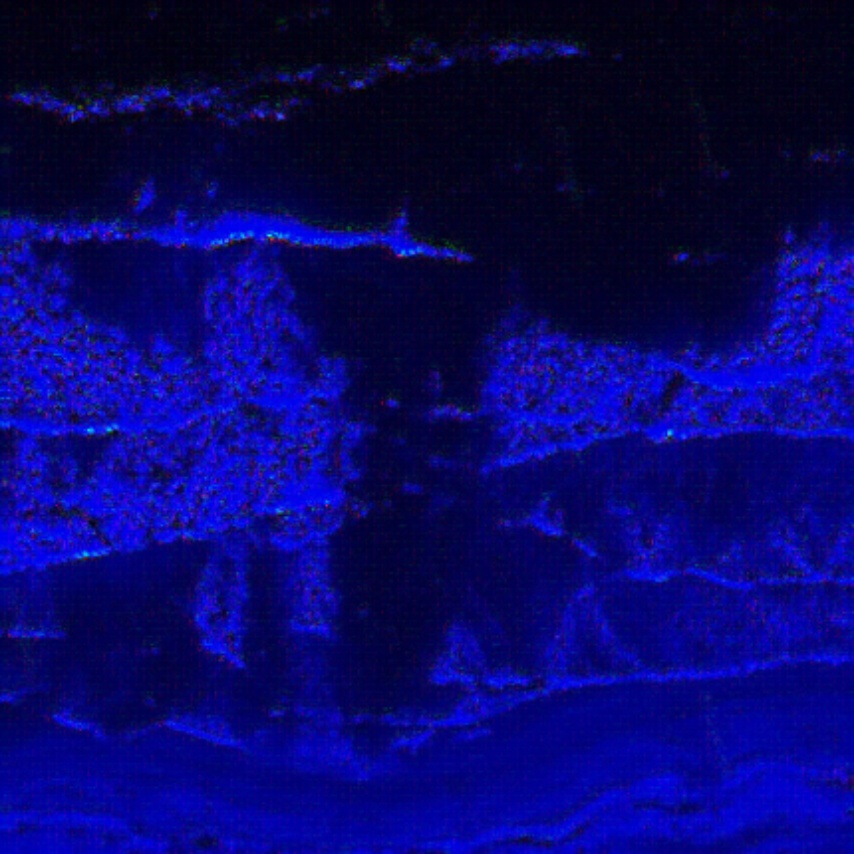rip_current: (263, 173, 511, 711)
